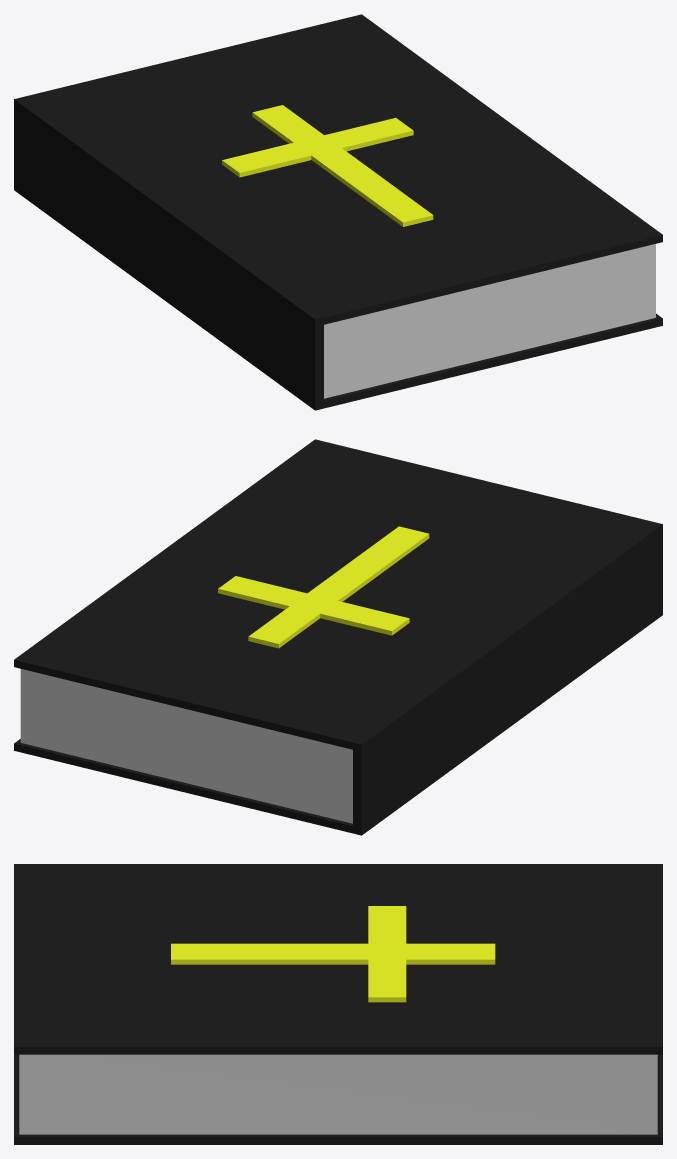
The model's file is Библия.FBX.
3 views of the same model, one above another, from view 1: azimuth 30°, elevation 25°; view 2: azimuth 150°, elevation 25°; view 3: azimuth 270°, elevation 25° (orthographic). The views are drawn at different scales.
Visible parts, largest first — view 1: Box001, Box002, Box003; view 2: Box001, Box002, Box003; view 3: Box001, Box002, Box003.
Boxes of the visible parts, box(x1,y1,x2,y2) form: Box001: box(14, 14, 662, 410); Box002: box(252, 105, 433, 226); Box003: box(222, 118, 413, 177); Box001: box(14, 439, 662, 835); Box002: box(248, 526, 429, 648); Box003: box(218, 576, 409, 635); Box001: box(14, 864, 662, 1144); Box002: box(171, 943, 495, 964); Box003: box(368, 906, 406, 1002).
Bounding box in the file's own units: 40 × 10.5 × 60.
